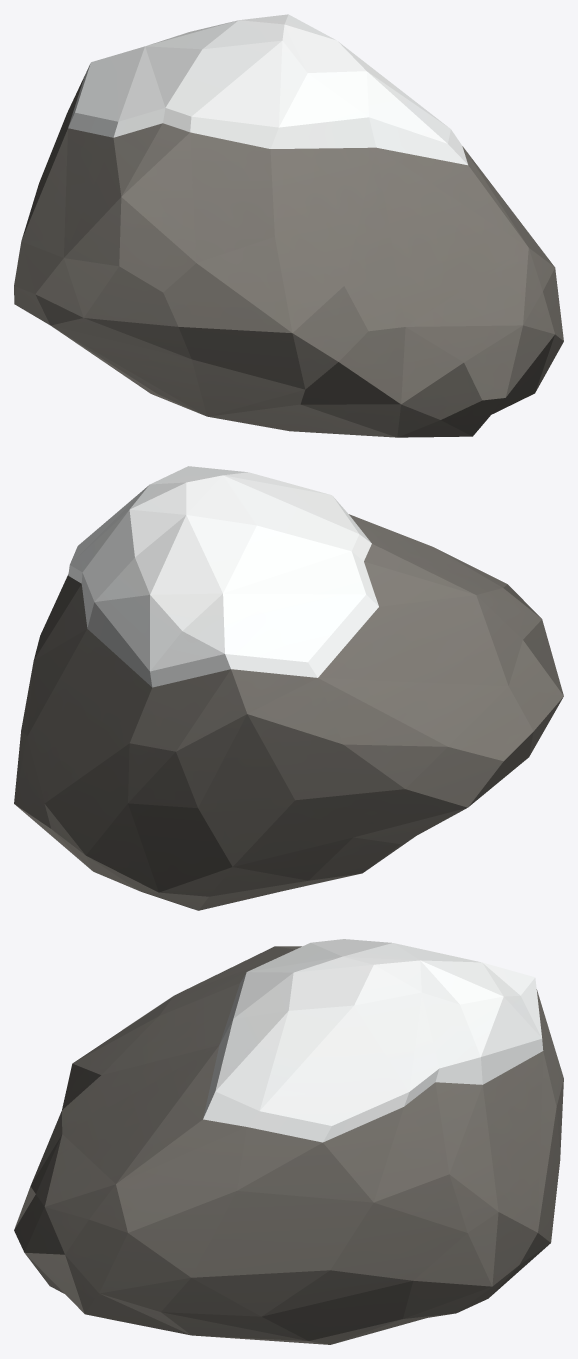
The model's file is HX-shitou1.FBX.
3 renders of one model, top to bottom at view 1: azimuth 30°, elevation 25°; view 2: azimuth 150°, elevation 25°; view 3: azimuth 270°, elevation 25°, orthographic. The views are drawn at different scales.
Visible parts, largest first — view 1: shitou1, xue1; view 2: shitou1, xue1; view 3: shitou1, xue1.
Part boxes in pixels (x1=…): shitou1: x1=14, y1=76, x2=563, y2=437; xue1: x1=68, y1=14, x2=467, y2=165; shitou1: x1=14, y1=514, x2=563, y2=910; xue1: x1=68, y1=466, x2=378, y2=687; shitou1: x1=14, y1=946, x2=563, y2=1344; xue1: x1=203, y1=939, x2=543, y2=1142.
Size of the model in its own units: 393 by 306 by 422.
